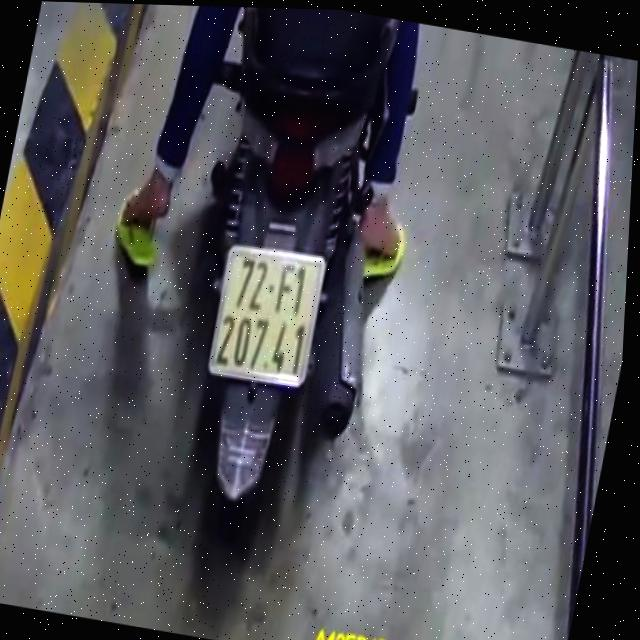motorcycle: (110, 4, 441, 572)
plate: (195, 237, 337, 397)
